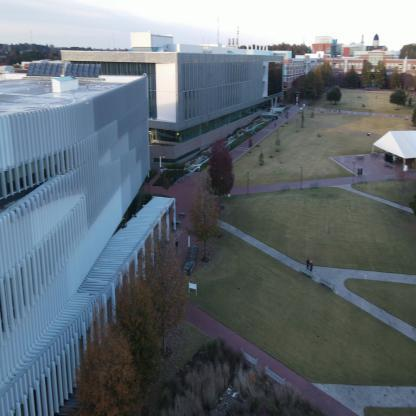EB-1: (288, 47, 314, 96)
Fitts- Woolard: (64, 36, 286, 174)
Hunt Library: (0, 50, 178, 415)
